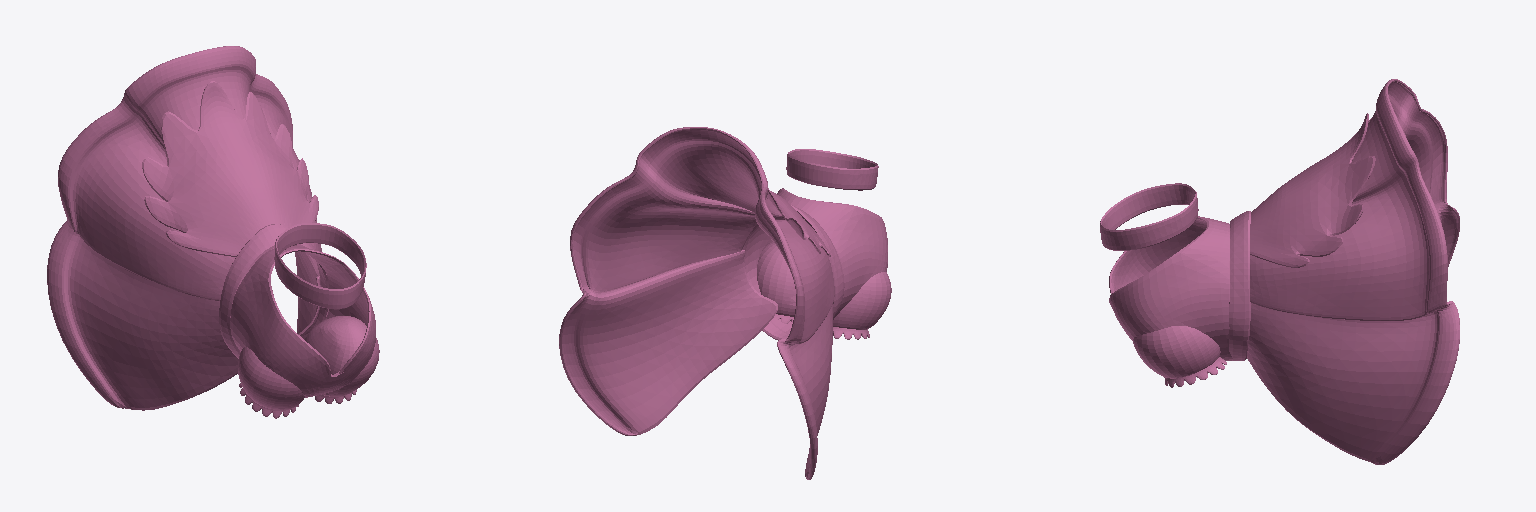
The model's file is dress.obj.
The picture shows the model from 3 angles: view 1: azimuth 30°, elevation 25°; view 2: azimuth 150°, elevation 25°; view 3: azimuth 270°, elevation 25°; orthographic projection.
Visible parts, largest first — view 1: cancan_dress_body0_model0.001_cancan_dress_body0_model0.002; view 2: cancan_dress_body0_model0.001_cancan_dress_body0_model0.002; view 3: cancan_dress_body0_model0.001_cancan_dress_body0_model0.002.
Boxes of the visible parts, x1=… form: cancan_dress_body0_model0.001_cancan_dress_body0_model0.002: x1=47, y1=46, x2=379, y2=418; cancan_dress_body0_model0.001_cancan_dress_body0_model0.002: x1=559, y1=127, x2=891, y2=479; cancan_dress_body0_model0.001_cancan_dress_body0_model0.002: x1=1100, y1=79, x2=1459, y2=464.
Bounding box in the file's own units: 23.93 × 30.44 × 29.96.